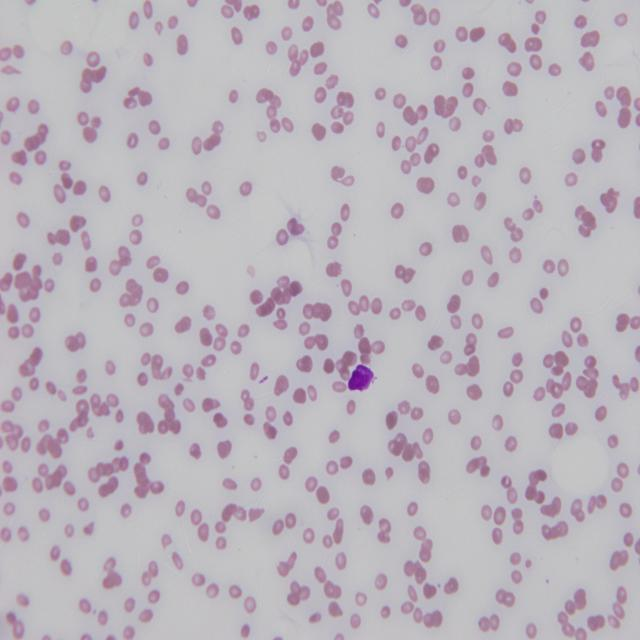cell: (348, 365, 374, 390)
